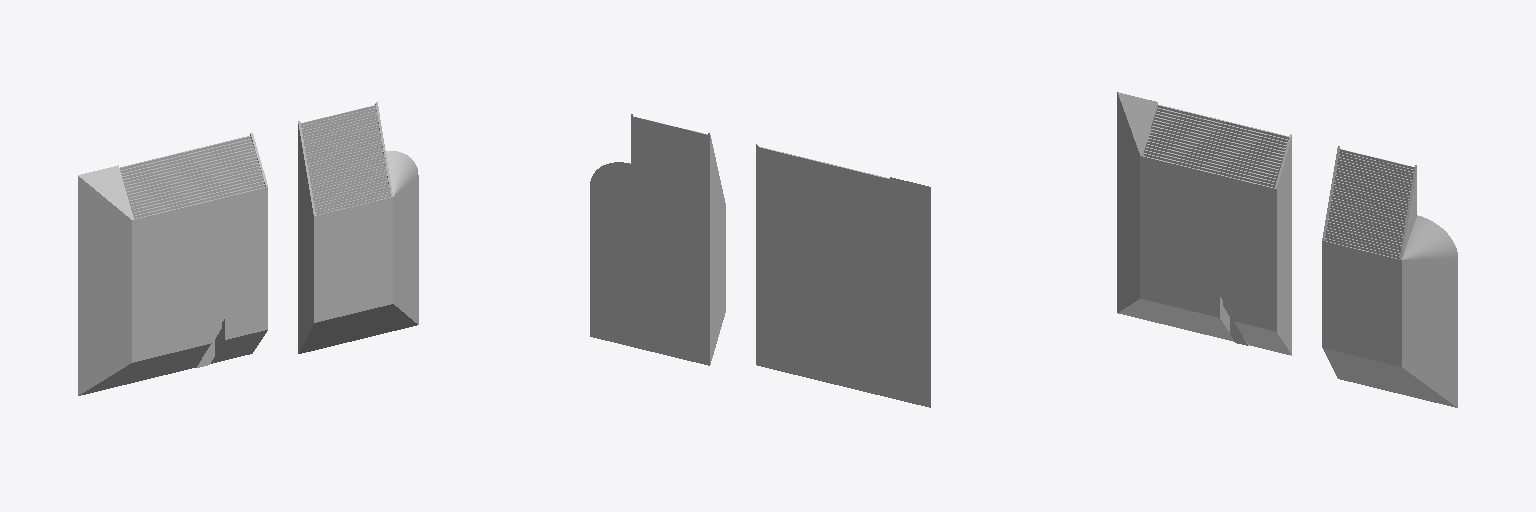
The model's file is podio.obj.
The picture shows the model from 3 angles: view 1: azimuth 30°, elevation 25°; view 2: azimuth 150°, elevation 25°; view 3: azimuth 330°, elevation 25°; orthographic projection.
Parts seen in each view (by area): view 1: obj_0; view 2: obj_0; view 3: obj_0.
Boxes of the visible parts, x1=… form: obj_0: x1=78, y1=102, x2=418, y2=395; obj_0: x1=590, y1=114, x2=930, y2=407; obj_0: x1=1117, y1=92, x2=1457, y2=407.
Size of the model in its own units: 150 by 98 by 12.